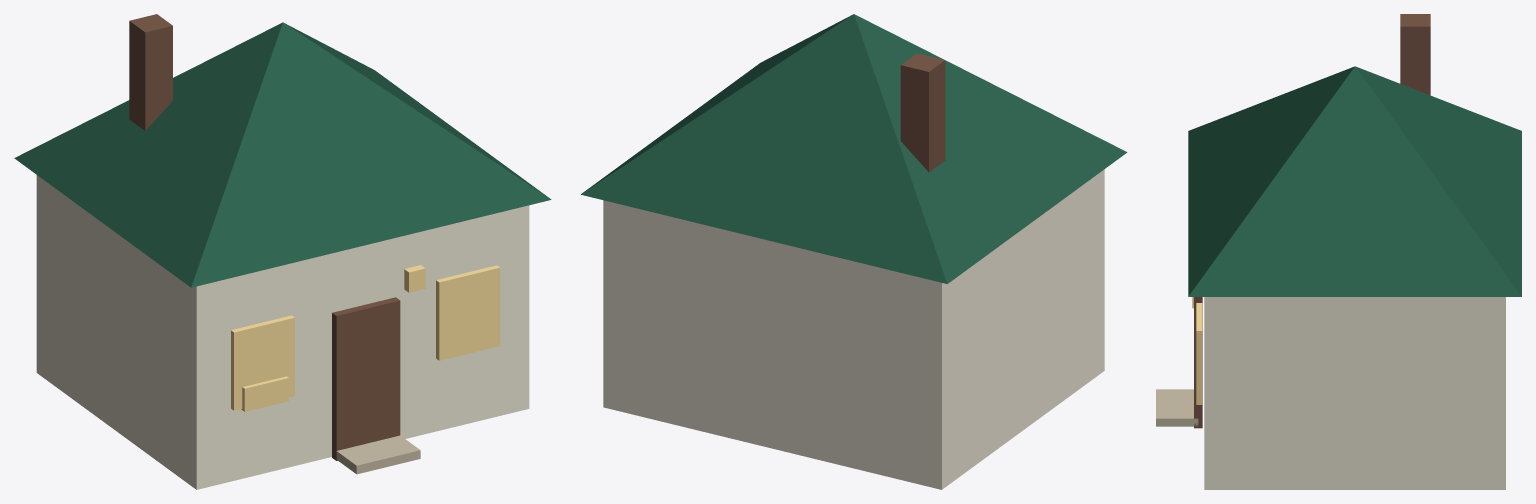
Rendered from house-2.glb.
3 renders of one model, left to right at view 1: azimuth 30°, elevation 25°; view 2: azimuth 150°, elevation 25°; view 3: azimuth 270°, elevation 25°, orthographic. The views are drawn at different scales.
Visible parts, largest first — view 1: HouseMesh, WindowsMesh, MealLightMesh; view 2: HouseMesh; view 3: HouseMesh, WindowsMesh.
Boxes of the visible parts, left/top/right/bottom form: HouseMesh: left=14, top=14, right=551, bottom=489; WindowsMesh: left=231, top=265, right=500, bottom=410; MealLightMesh: left=241, top=376, right=288, bottom=411; HouseMesh: left=581, top=14, right=1127, bottom=489; HouseMesh: left=1156, top=14, right=1521, bottom=489; WindowsMesh: left=1196, top=303, right=1202, bottom=404.
Size of the model in its own units: 6.51 by 6.35 by 6.06.
1 material, 1 textured.
